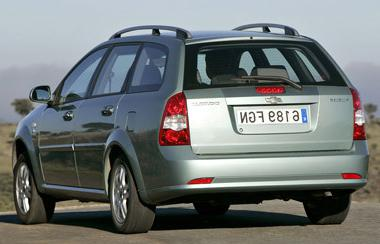Car: (2, 13, 377, 244)
